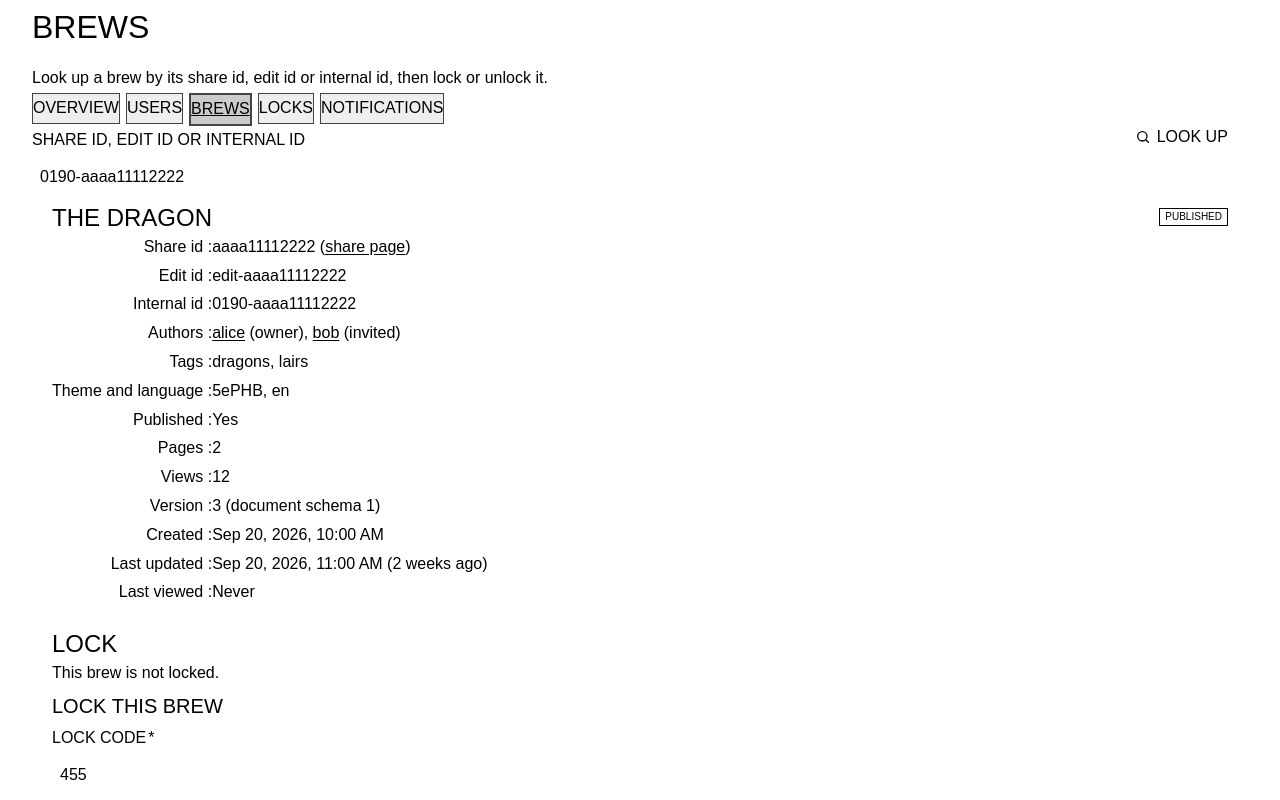
Test: lookups › looks up a brew by share id, edit id or internal id, and says when there is none
Check: the heading "The Dragon" is shown, box left=52, top=202, right=212, bottom=233
Check: the text with test id "admin-brew-share-id" reads "aaaa11112222", box left=212, top=238, right=315, bottom=255
Replace the text in the search field with test id "admin-brew-search" with "missing12345" at (573, 177), box left=32, top=159, right=1114, bottom=196
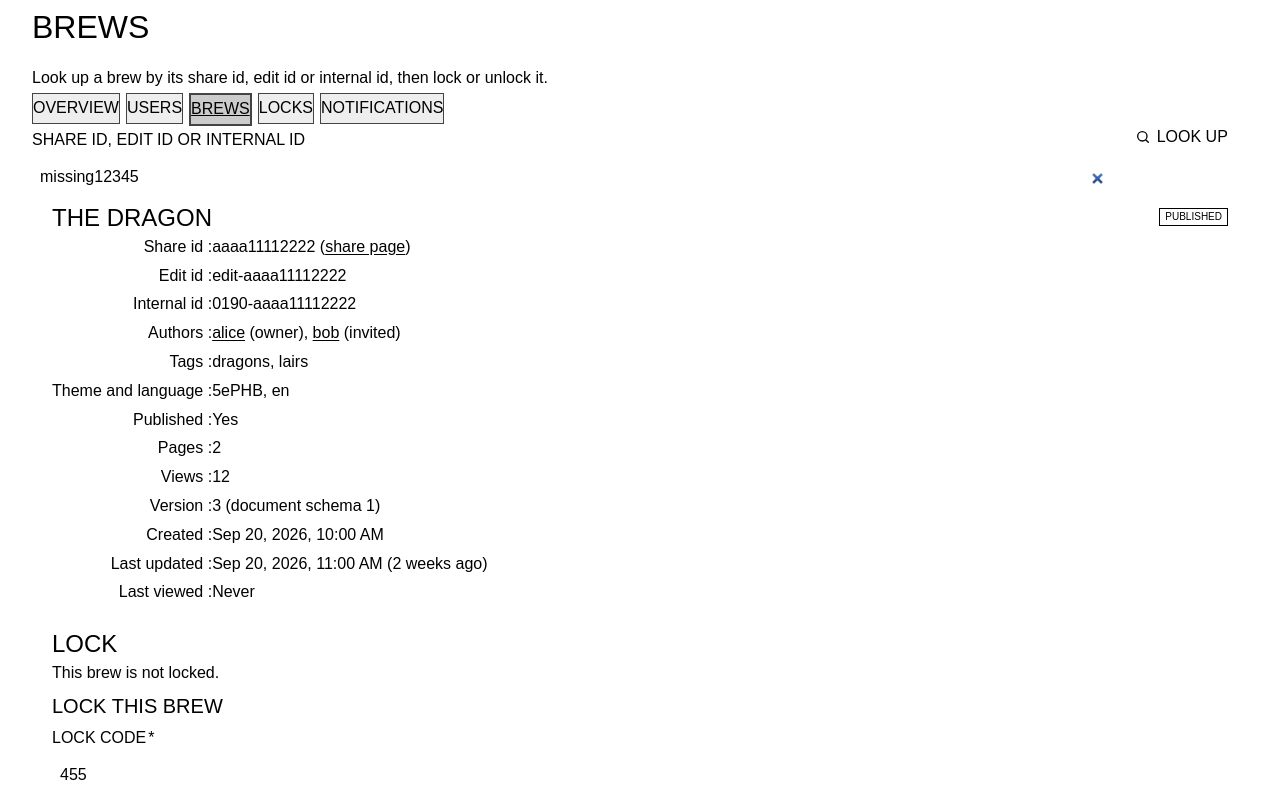
Click the button with test id "admin-brew-search-submit" at (1181, 137), box left=1114, top=126, right=1248, bottom=147
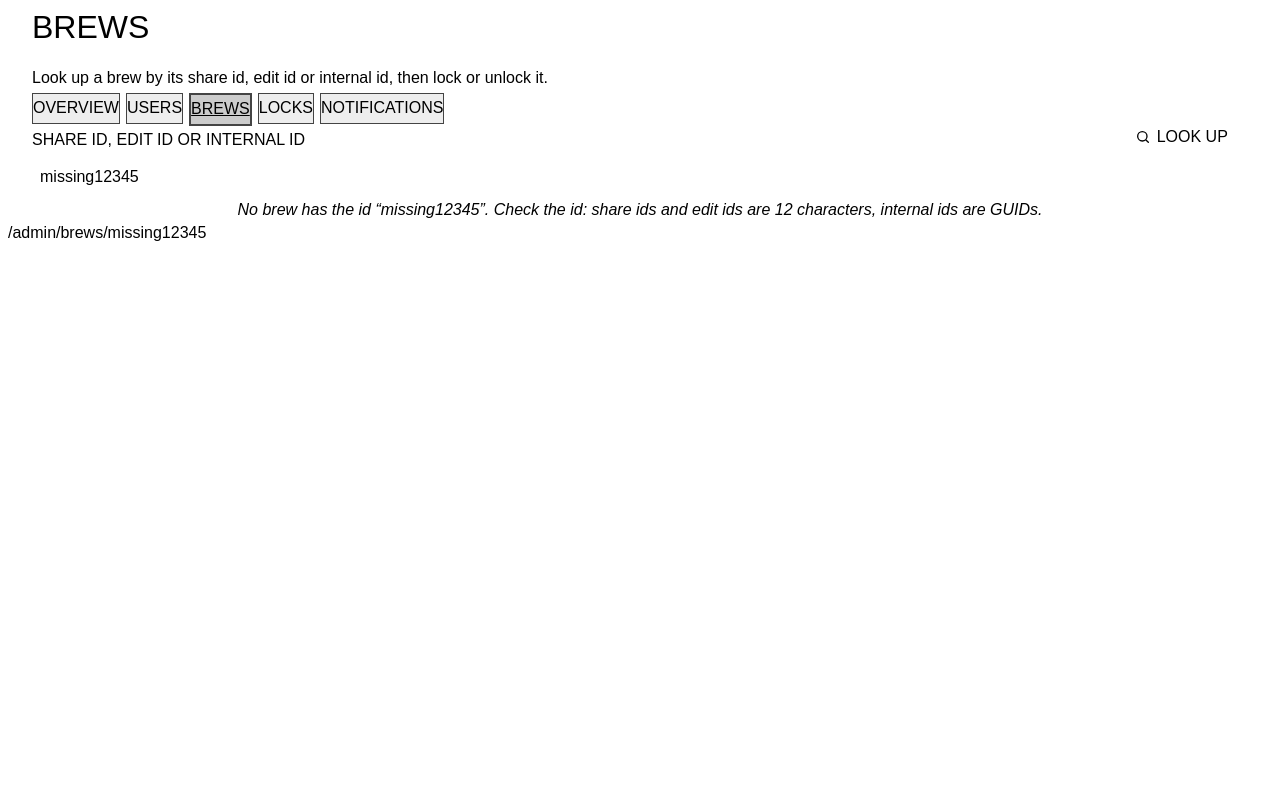
Check: the text with test id "admin-brew-missing" shows "No brew has the id “missing12345”.", box left=238, top=201, right=1042, bottom=218
